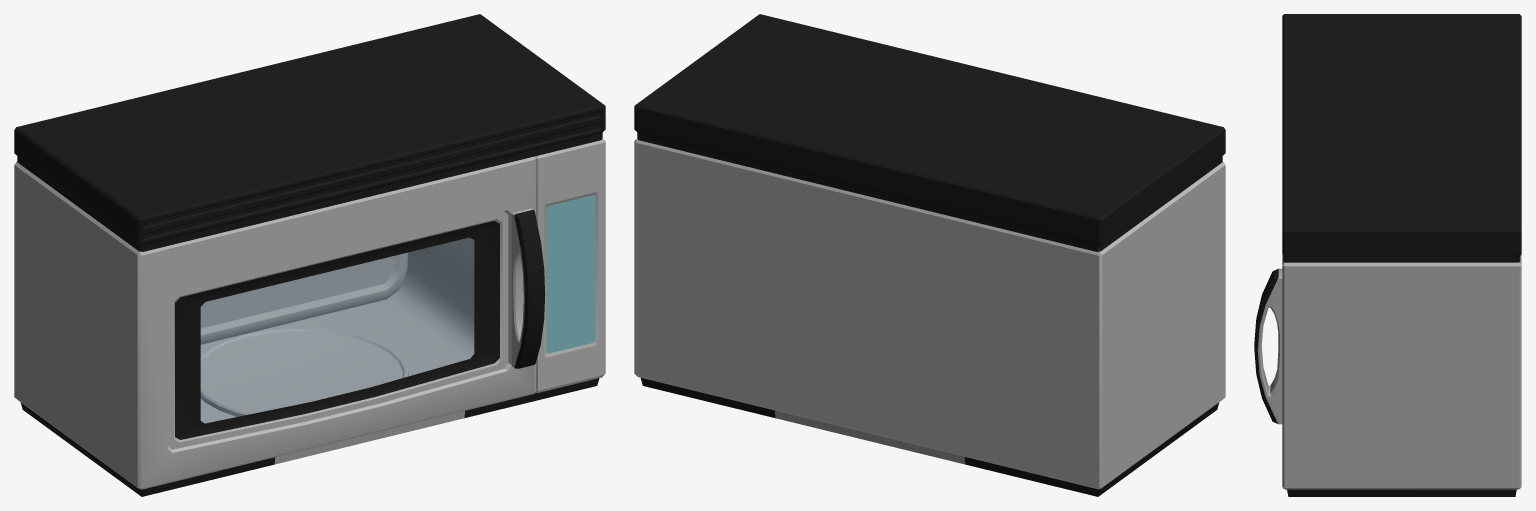
The model's file is SnabbMicrowaveOvenWithExtractorFan.FBX.
The picture shows the model from 3 angles, left to right: view 1: azimuth 30°, elevation 25°; view 2: azimuth 150°, elevation 25°; view 3: azimuth 270°, elevation 25°; orthographic projection. The views are drawn at different scales.
Parts seen in each view (by area): view 1: SnabbMicrowaveOvenWithExtractorFan; view 2: SnabbMicrowaveOvenWithExtractorFan; view 3: SnabbMicrowaveOvenWithExtractorFan.
Boxes of the visible parts, bbox=[...] form: SnabbMicrowaveOvenWithExtractorFan: bbox=[14, 14, 605, 496]; SnabbMicrowaveOvenWithExtractorFan: bbox=[634, 14, 1225, 496]; SnabbMicrowaveOvenWithExtractorFan: bbox=[1254, 14, 1521, 496].
Bounding box in the file's own units: 1255 × 723 × 651.
